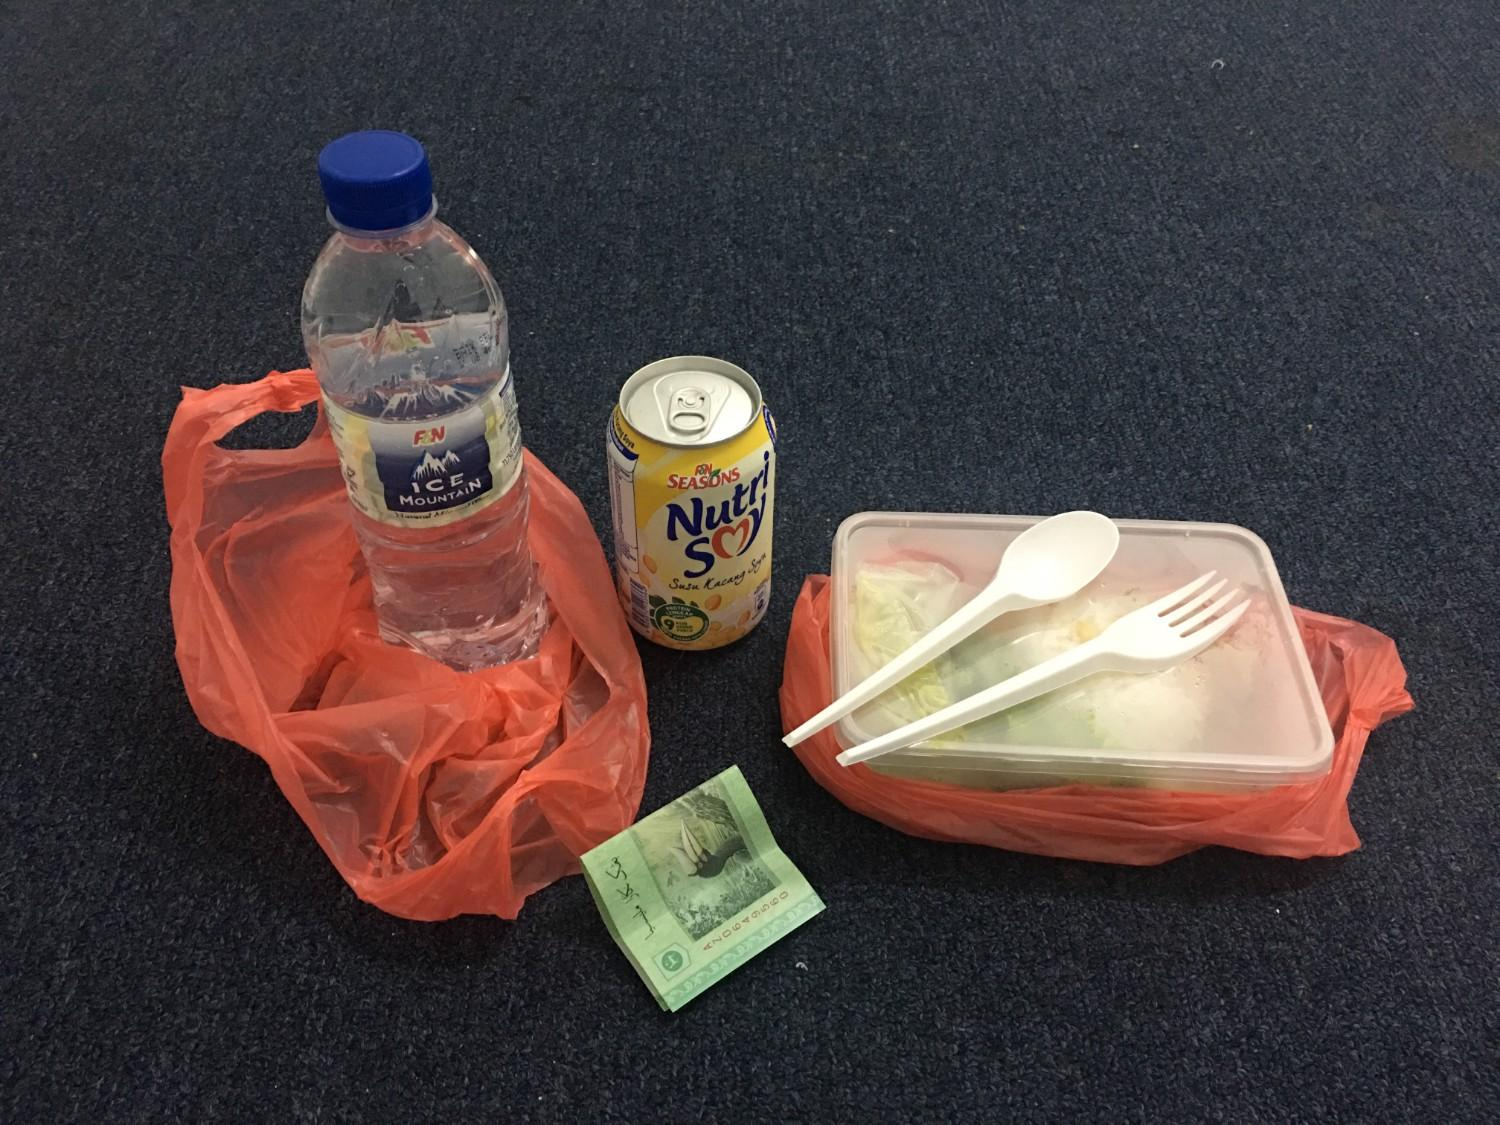bottle: (281, 113, 560, 683)
